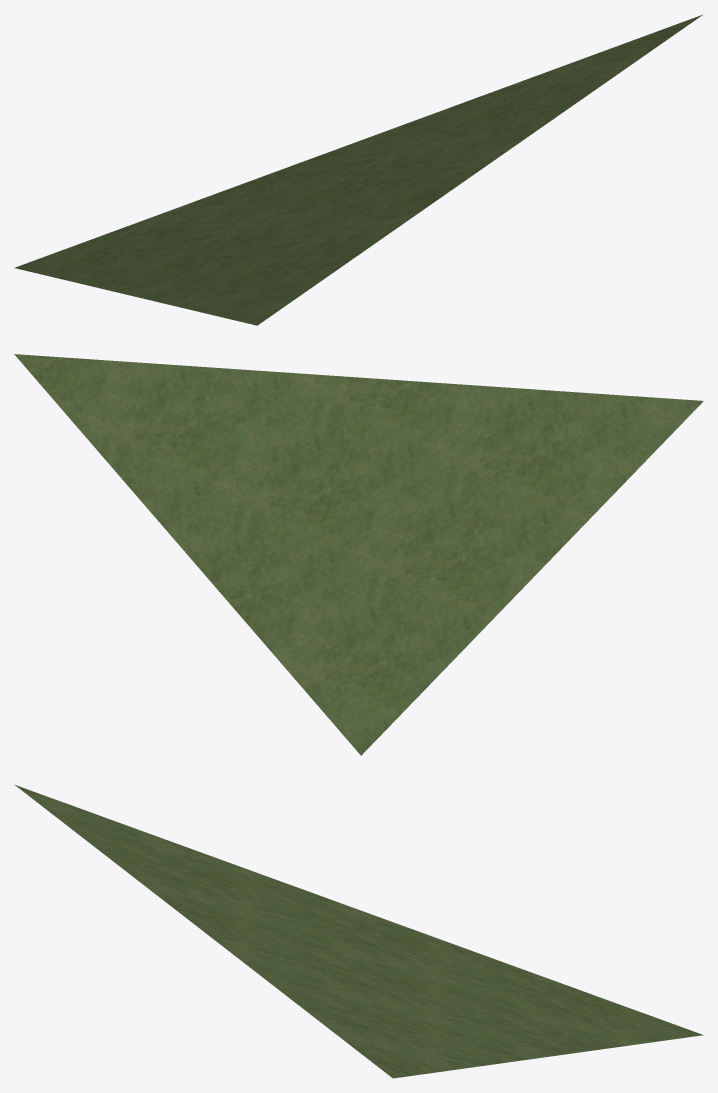
The model's file is LODa_carisle_mid_landmass_02_15.fbx.
3 renders of one model, top to bottom at view 1: azimuth 30°, elevation 25°; view 2: azimuth 150°, elevation 25°; view 3: azimuth 270°, elevation 25°, orthographic. The views are drawn at different scales.
Visible parts, largest first — view 1: LODa_carisle_mid_landmass_02_15; view 2: LODa_carisle_mid_landmass_02_15; view 3: LODa_carisle_mid_landmass_02_15.
Part boxes in pixels (bbox=[...]): LODa_carisle_mid_landmass_02_15: bbox=[14, 14, 702, 325]; LODa_carisle_mid_landmass_02_15: bbox=[14, 354, 703, 755]; LODa_carisle_mid_landmass_02_15: bbox=[14, 784, 703, 1078].
Bounding box in the file's own units: 16.43 × 14.63 × 5.7.
